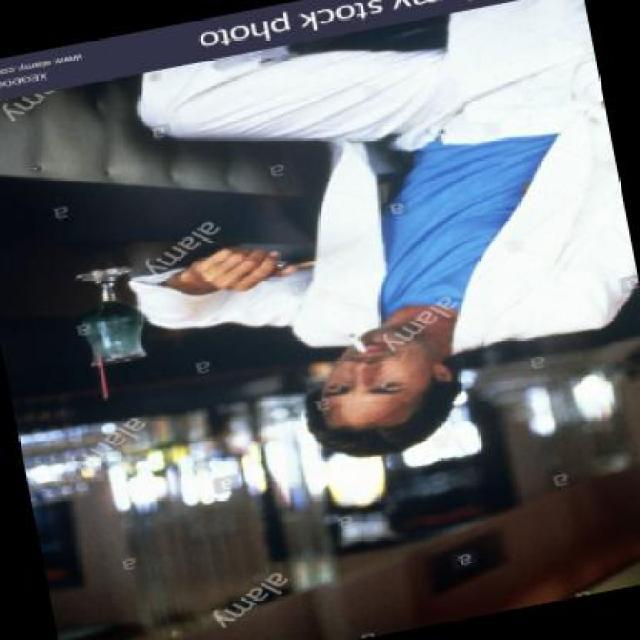cigarette: (338, 326, 371, 356)
